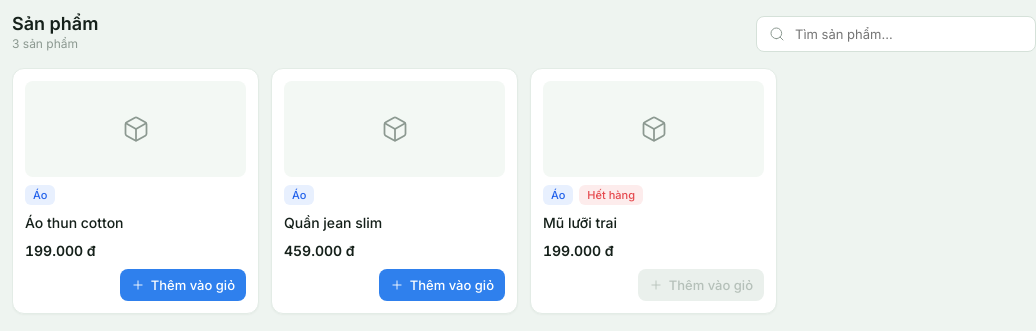
Test case: <ProductList /> — bất đồng bộ với API được mock › bấm "Thêm vào giỏ" cập nhật Redux store
Click the button with aria-label "Thêm Áo thun cotton vào giỏ" at (183, 285), box [120, 269, 246, 301]
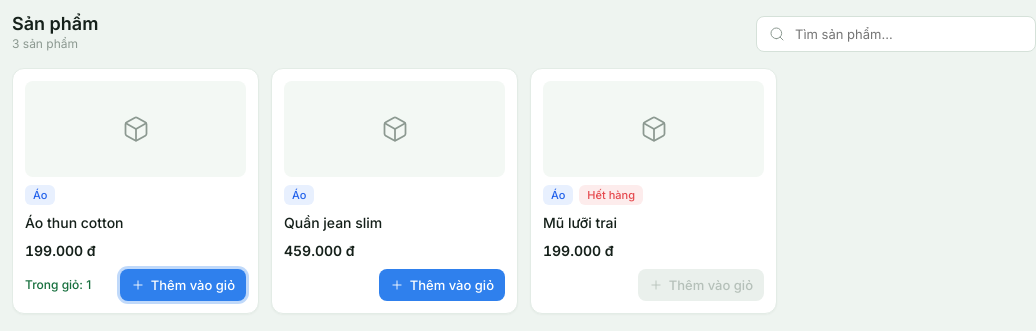
Expected: the text "Trong giỏ: 1" is shown, [25, 275, 91, 295]
